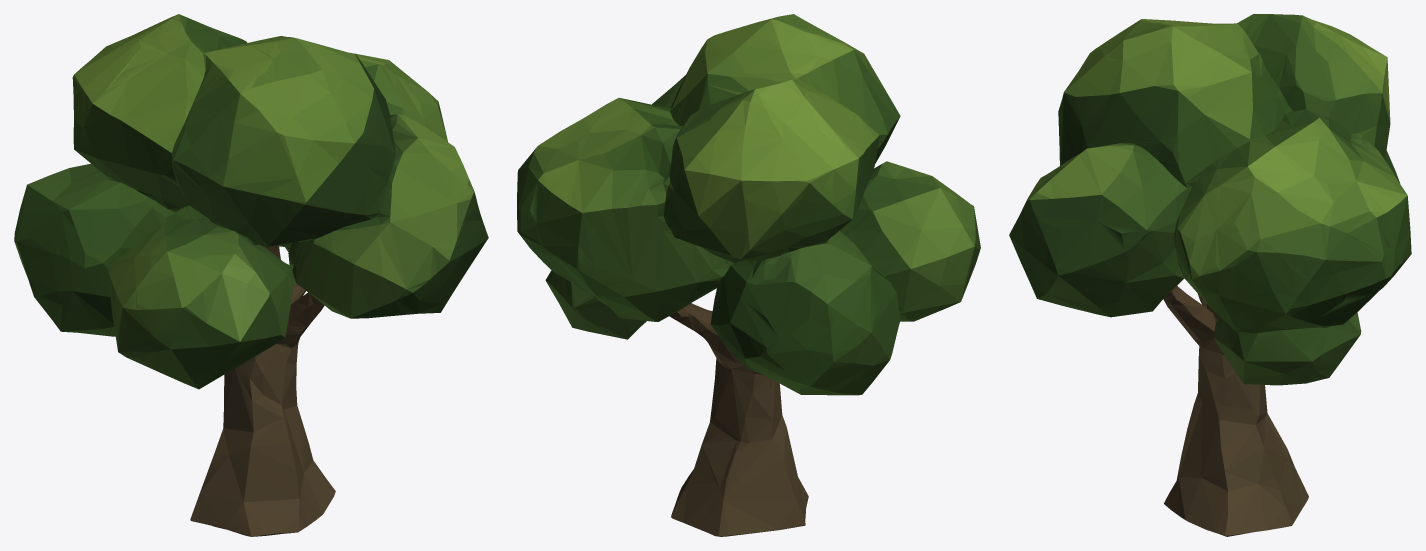
The model's file is tree1_lod.glb.
3 renders of one model, left to right at view 1: azimuth 30°, elevation 25°; view 2: azimuth 150°, elevation 25°; view 3: azimuth 270°, elevation 25°, orthographic. The views are drawn at different scales.
Parts seen in each view (by area): view 1: tree1_lod; view 2: tree1_lod; view 3: tree1_lod.
Part boxes in pixels (x1,y1,x2,y2): tree1_lod: (14, 14, 488, 536); tree1_lod: (517, 14, 980, 536); tree1_lod: (1009, 14, 1411, 536).
Size of the model in its own units: 0.8314 by 1 by 0.7614.
1 material, 1 textured.
